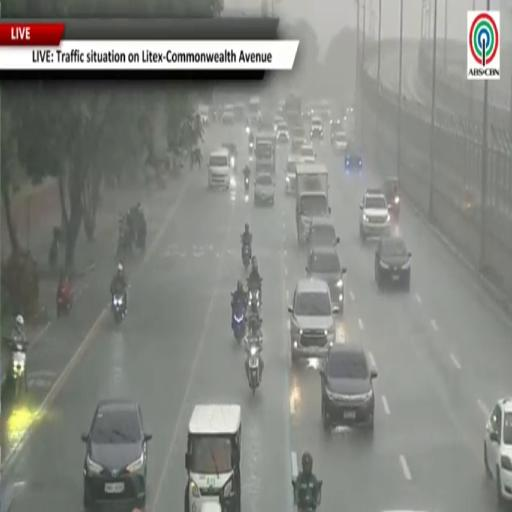car: (81, 399, 151, 510), (183, 404, 241, 511), (321, 344, 377, 430), (288, 278, 339, 361), (484, 397, 511, 506), (306, 247, 346, 313), (375, 236, 411, 291), (360, 189, 390, 241), (307, 217, 339, 249), (208, 149, 232, 189), (382, 178, 400, 219), (285, 155, 303, 195), (254, 172, 275, 204), (345, 140, 362, 172), (222, 143, 238, 169), (291, 126, 306, 153), (332, 132, 347, 154), (330, 120, 345, 141), (300, 144, 316, 163), (310, 117, 323, 140), (276, 122, 289, 143), (222, 105, 235, 124), (198, 104, 209, 125), (234, 103, 246, 122), (274, 115, 285, 131)
motorcycle: (9, 338, 27, 398), (246, 334, 262, 394), (292, 480, 322, 511), (117, 217, 133, 259), (232, 301, 246, 343), (57, 283, 74, 316), (112, 294, 125, 325), (248, 280, 261, 310), (388, 195, 400, 222), (242, 244, 251, 270), (245, 176, 250, 193), (249, 141, 254, 154)
truck: (296, 164, 330, 243), (255, 132, 275, 174), (285, 93, 302, 126), (249, 96, 261, 126)
